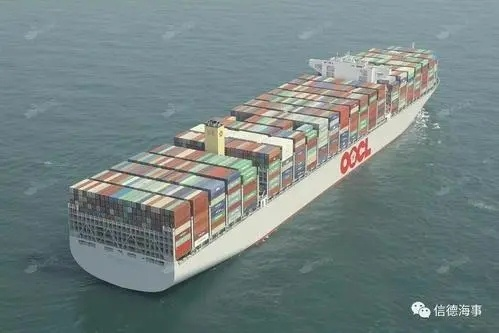Cargoship: (62, 40, 440, 284)
